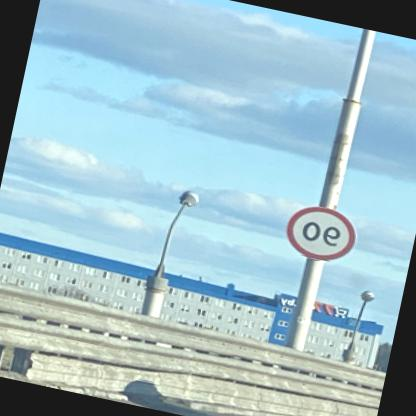speedlimit: (284, 200, 363, 266)
